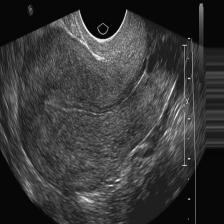no-pcos: (1, 40, 179, 224)
